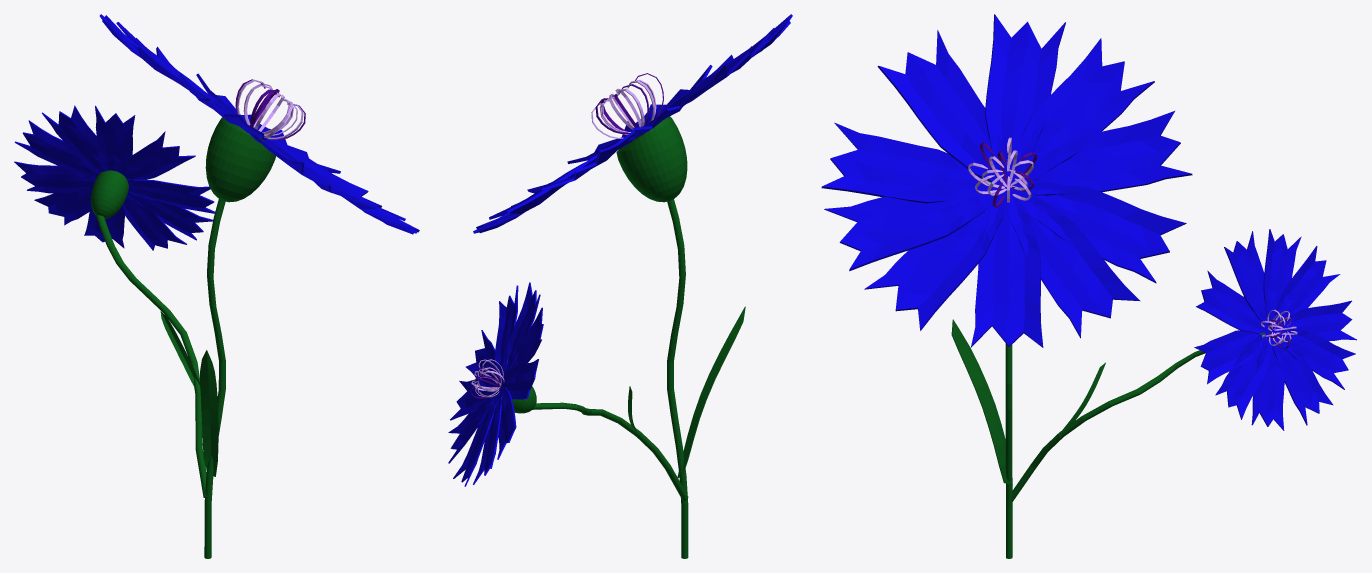
The model's file is flower2.fbx.
3 renders of one model, left to right at view 1: azimuth 30°, elevation 25°; view 2: azimuth 150°, elevation 25°; view 3: azimuth 270°, elevation 25°, orthographic. The views are drawn at different scales.
Parts seen in each view (by area): view 1: Сфера, Цилиндр, Цилиндр.001, Плоскость.052, Плоскость.027, Плоскость.030, Плоскость.035, Плоскость.031, Плоскость.034, Плоскость.032, Плоскость.028, Сфера.001 (+10 smaller); view 2: Сфера, Цилиндр, Цилиндр.001, Плоскость.052, Плоскость.030, Плоскость.035, Плоскость.034, Плоскость.026, Плоскость.031, Плоскость.033, Плоскость.028, Плоскость.009 (+8 smaller); view 3: Плоскость.005, Плоскость.004, Плоскость, Плоскость.003, Плоскость.009, Плоскость.006, Плоскость.008, Плоскость.007, Плоскость.002, Плоскость.001, Плоскость.029, Плоскость.052 (+11 smaller).
Boxes of the visible parts, x1,y1,x2,y2 form: Сфера: [205, 117, 275, 202]; Цилиндр: [204, 199, 225, 558]; Цилиндр.001: [96, 215, 206, 497]; Плоскость.052: [200, 350, 218, 476]; Плоскость.027: [127, 179, 214, 213]; Плоскость.030: [120, 131, 195, 179]; Плоскость.035: [95, 105, 135, 172]; Плоскость.031: [14, 120, 98, 177]; Плоскость.034: [42, 105, 109, 173]; Плоскость.032: [14, 161, 95, 193]; Плоскость.028: [122, 192, 186, 250]; Сфера.001: [91, 170, 128, 218]; Сфера: [616, 116, 687, 202]; Цилиндр: [667, 199, 688, 558]; Цилиндр.001: [532, 402, 688, 500]; Плоскость.052: [677, 306, 745, 477]; Плоскость.030: [494, 285, 518, 386]; Плоскость.035: [501, 282, 540, 382]; Плоскость.034: [501, 307, 543, 384]; Плоскость.026: [453, 388, 499, 486]; Плоскость.031: [501, 359, 538, 399]; Плоскость.033: [473, 387, 501, 484]; Плоскость.028: [448, 386, 499, 463]; Плоскость.009: [644, 33, 770, 126]; Плоскость.005: [1010, 111, 1192, 195]; Плоскость.004: [877, 30, 1007, 187]; Плоскость: [971, 190, 1043, 347]; Плоскость.003: [824, 178, 1005, 271]; Плоскость.009: [985, 14, 1065, 178]; Плоскость.006: [1010, 181, 1186, 283]; Плоскость.008: [1011, 38, 1154, 182]; Плоскость.007: [1007, 188, 1140, 338]; Плоскость.002: [864, 187, 1006, 330]; Плоскость.001: [821, 122, 980, 203]; Плоскость.029: [1215, 331, 1271, 419]; Плоскость.052: [951, 319, 1012, 485].
Size of the model in its own units: 325 by 651 by 622.
